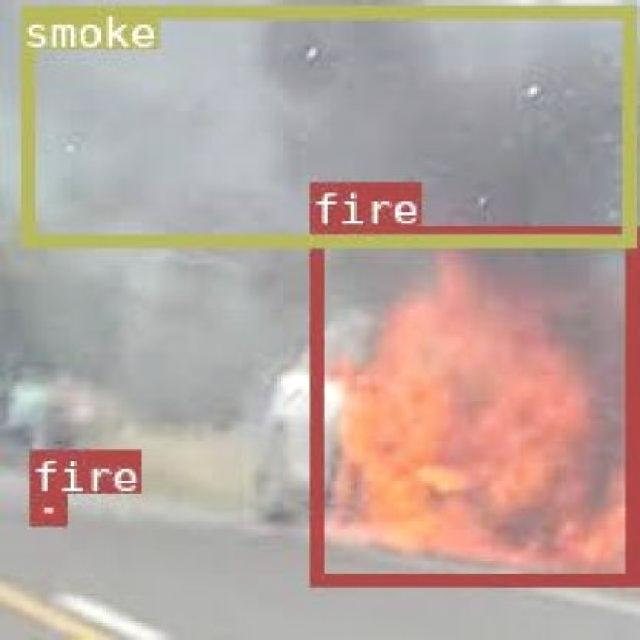fire: (308, 226, 634, 582), (29, 492, 65, 522)
smoke: (19, 3, 633, 245)
